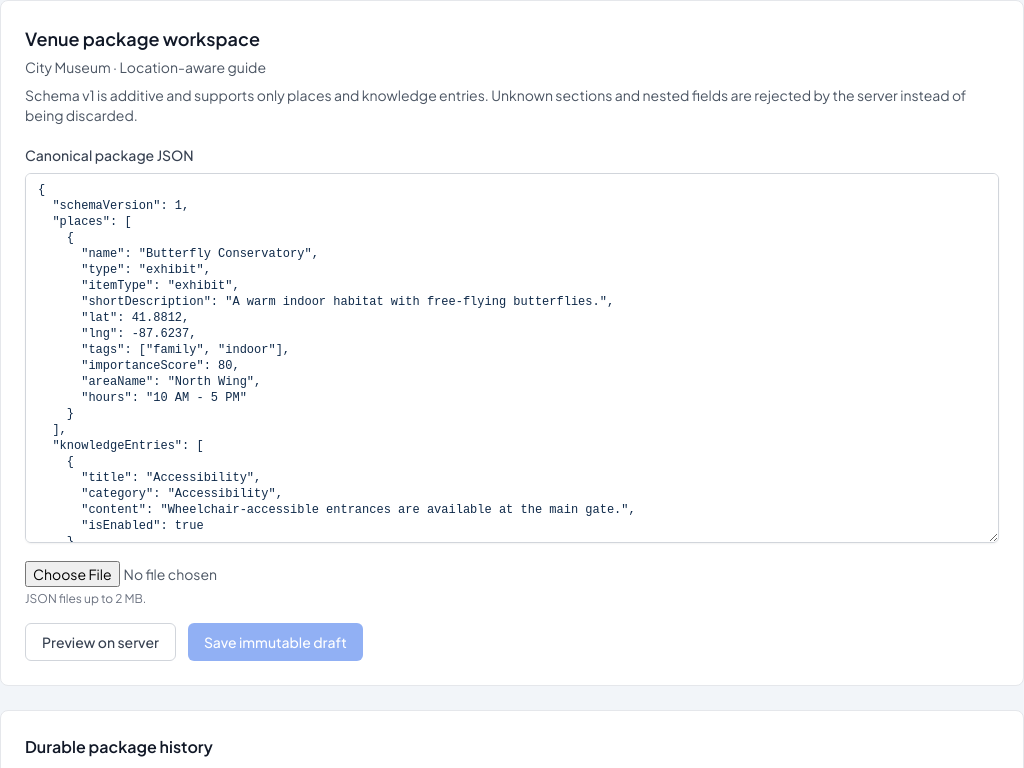
Test case: venue package workspace › uses the server preview and renders every supported addition exactly
The width and height of the screenshot is (1024, 768).
Click the button "Preview on server".
click(100, 642)  # box [25,623,176,661]
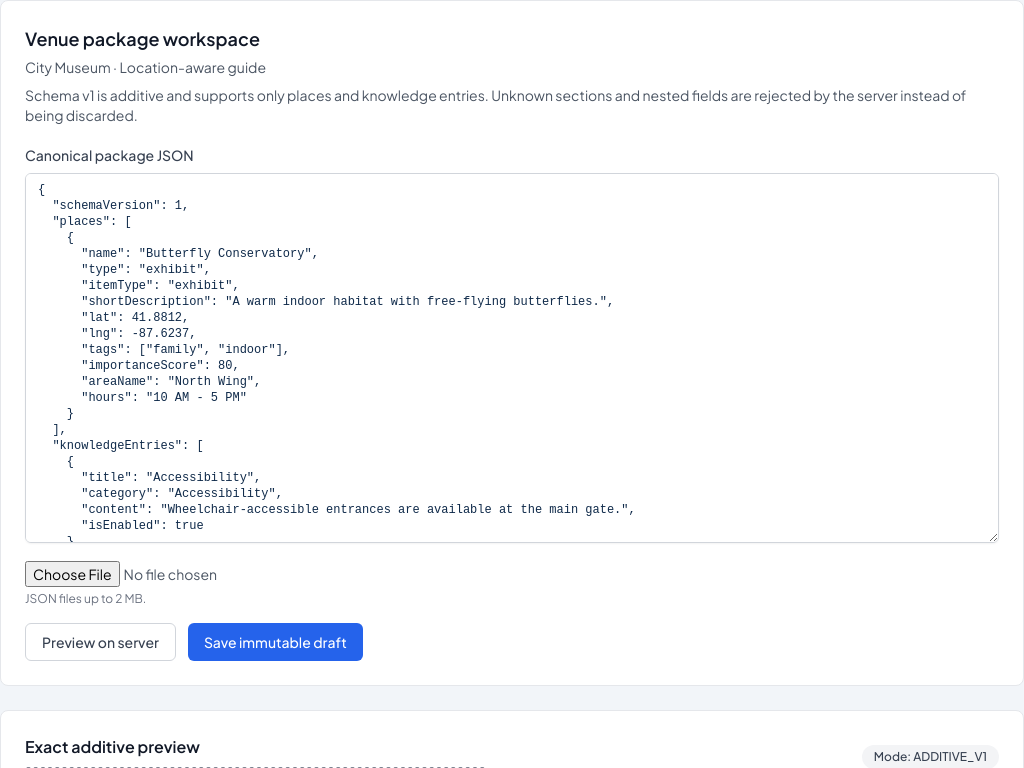
Now the heading "Exact additive preview" is shown, box [25,736,200,757]
Now the text "Mode: ADDITIVE_V1" is shown, box [862,745,999,767]
